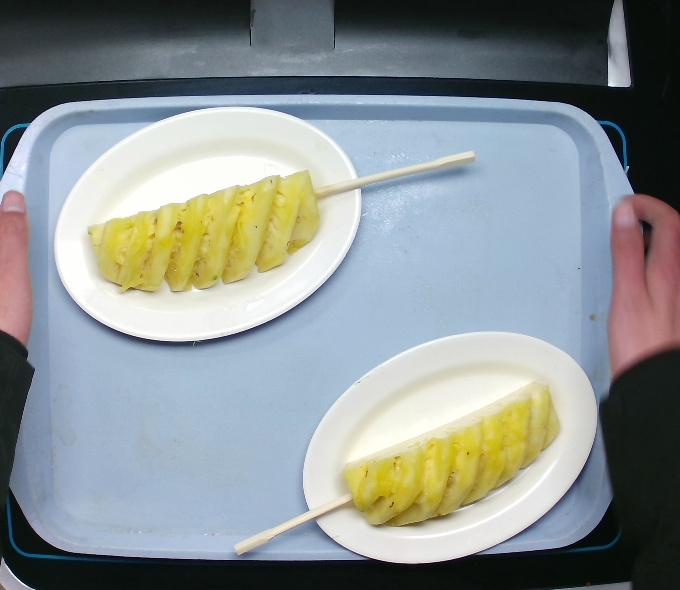wcq-BoLuo: (338, 368, 564, 533), (69, 164, 330, 293)
